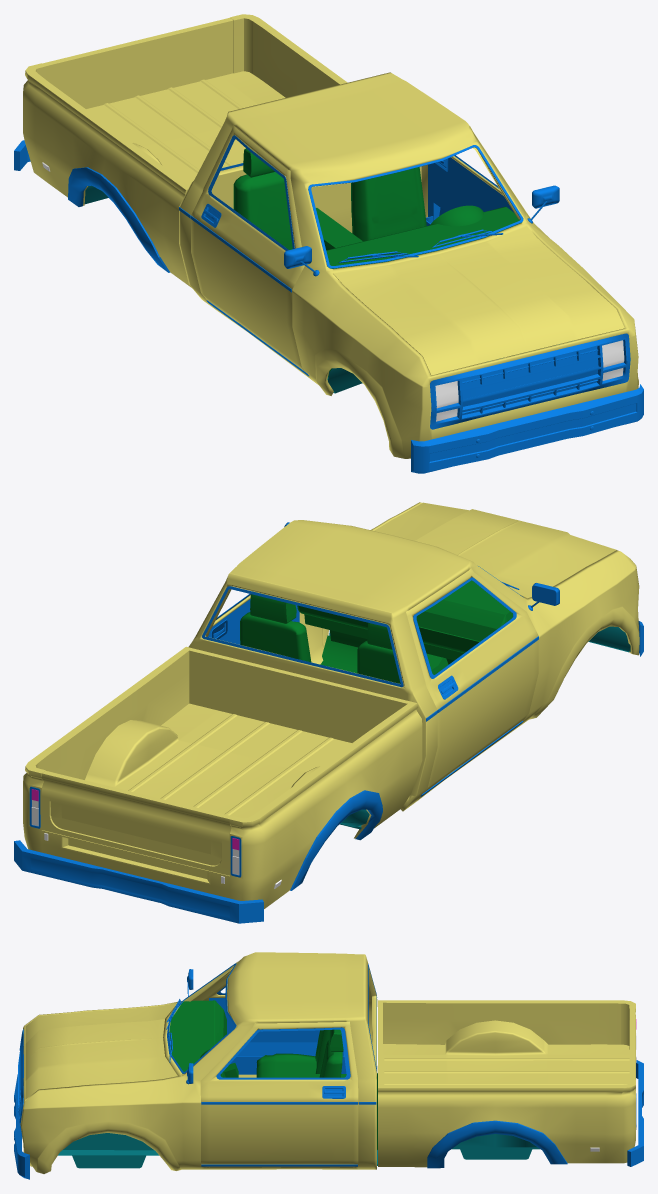
The model's file is PickUp_Lod1.fbx.
3 renders of one model, top to bottom at view 1: azimuth 30°, elevation 25°; view 2: azimuth 150°, elevation 25°; view 3: azimuth 270°, elevation 25°, orthographic. The views are drawn at different scales.
Parts seen in each view (by area): view 1: PickUp_Lod1; view 2: PickUp_Lod1; view 3: PickUp_Lod1.
Part boxes in pixels (x1,y1,x2,y2): PickUp_Lod1: (14,14,643,473); PickUp_Lod1: (14,502,643,923); PickUp_Lod1: (14,952,643,1179).
Bounding box in the file's own units: 232 × 164 × 595.
